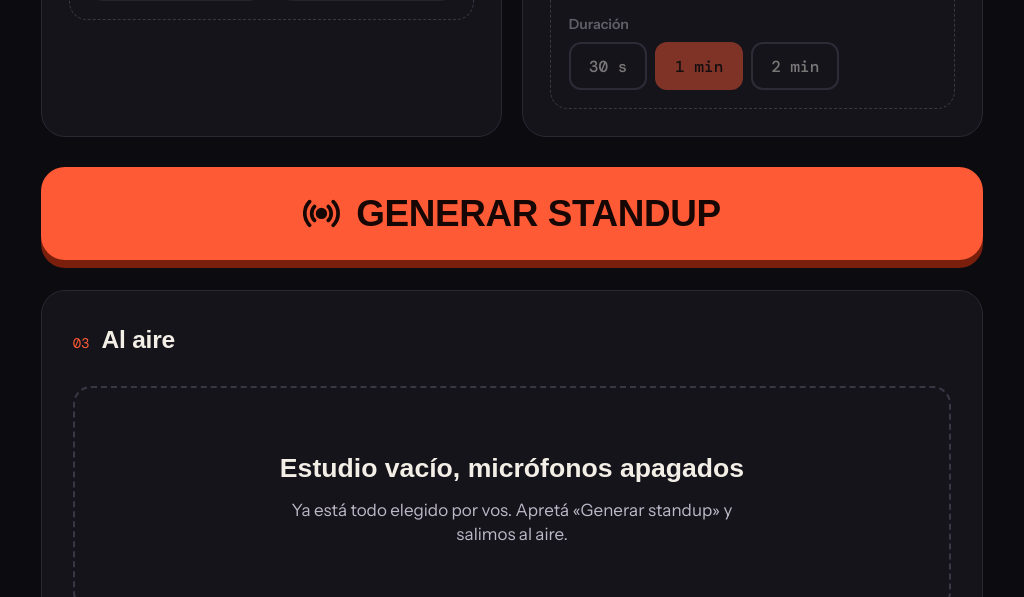
Test: App › con un solo clic genera el standup: reproductor, guion y PRs por prioridad
The image size is (1024, 597).
(page scrolled)
Expected: the text "Estudio vacío, micrófonos apagados" is shown, left=280, top=449, right=744, bottom=488
Click the button "Generar standup" at (512,214), box left=41, top=168, right=983, bottom=260
(page scrolled)
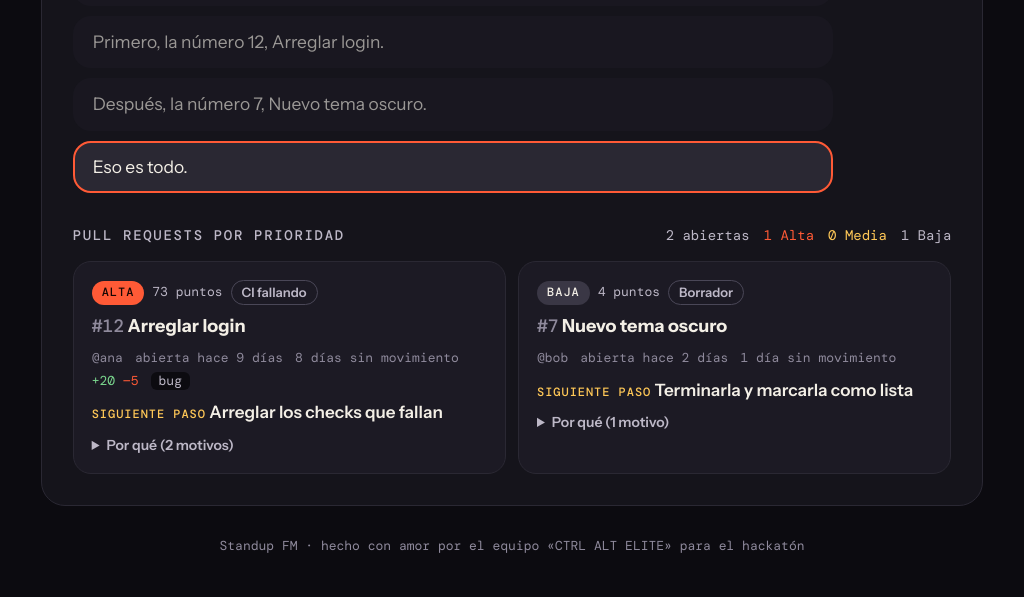
Expected: the text "CI fallando" is shown, left=230, top=280, right=318, bottom=305
Expected: the text "Arreglar los checks que fallan" is shown, left=209, top=402, right=443, bottom=422
